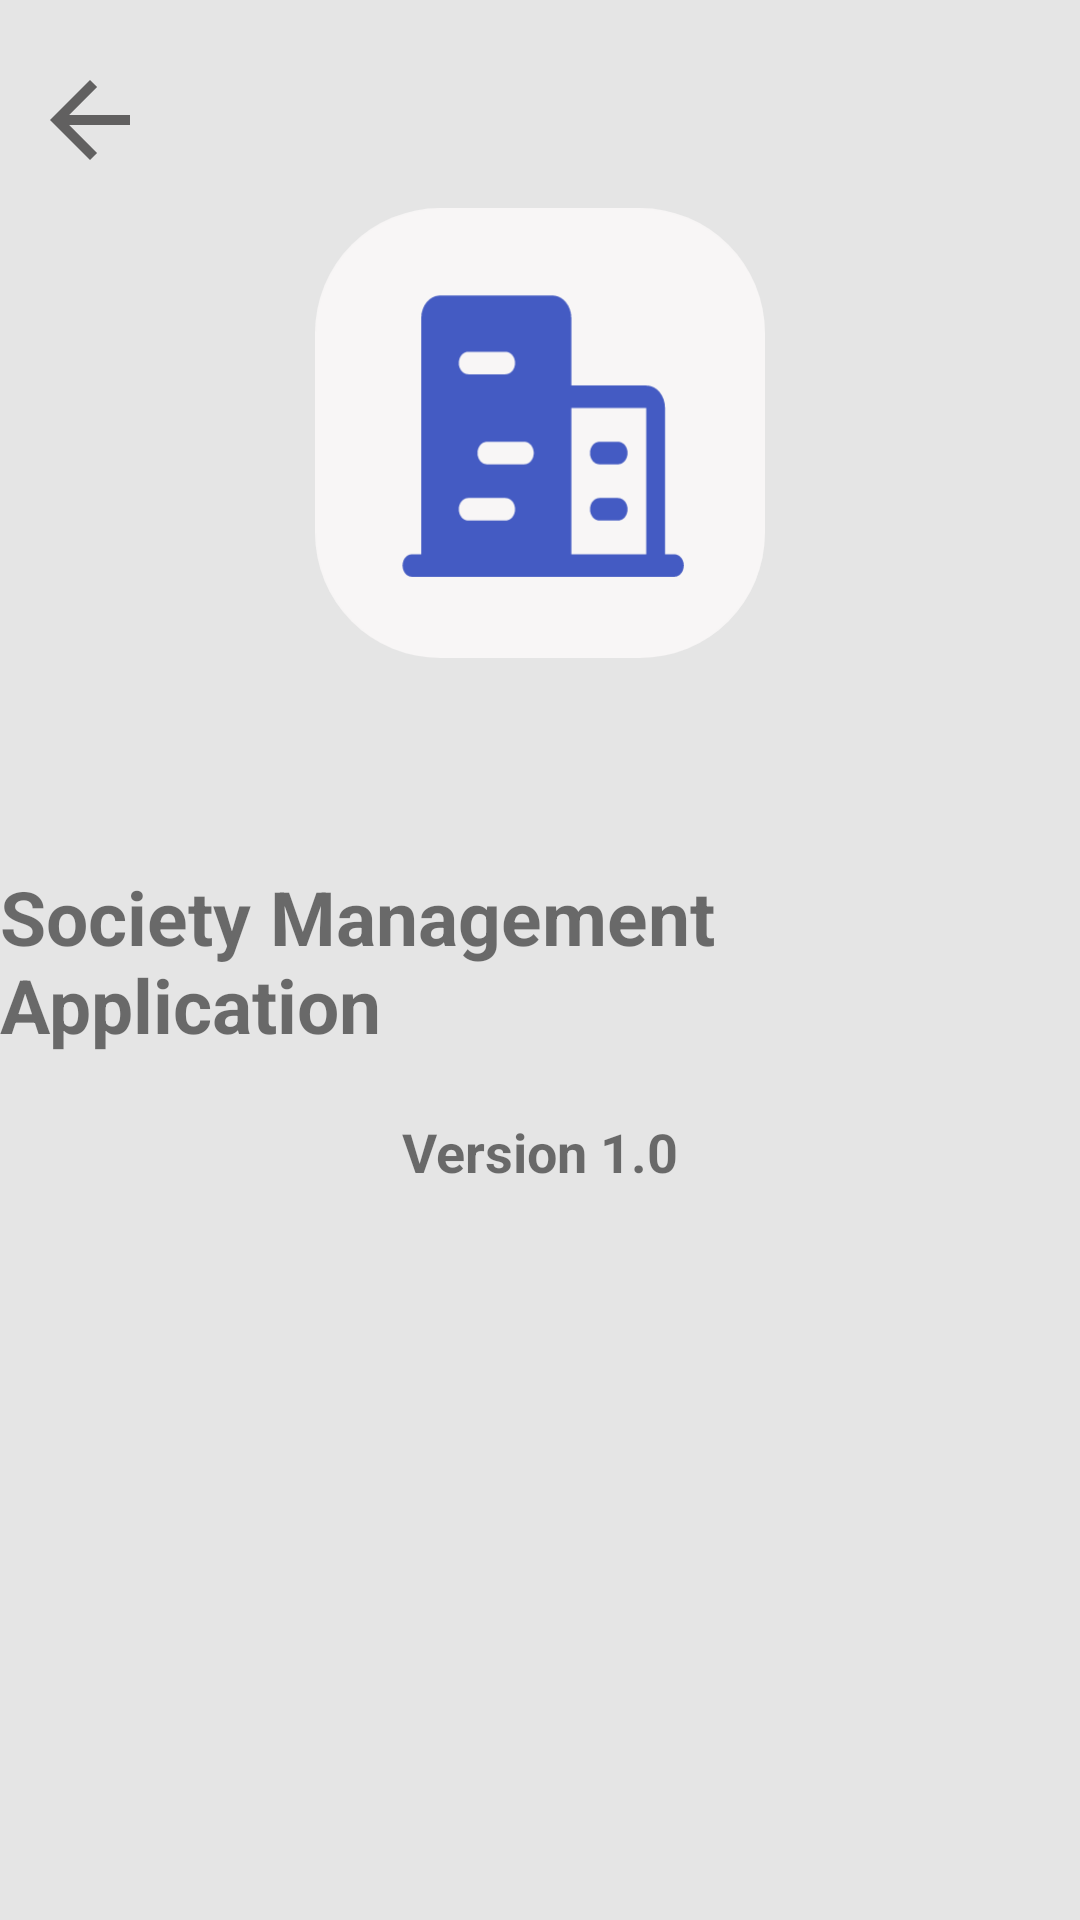

Where to tap for icons on this 1080×1920 app screen, as [x,y]:
arrow back: [90,120]
